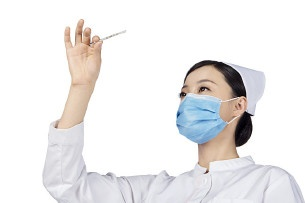Mask: (173, 79, 230, 136)
